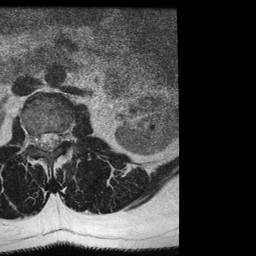CCS_normal: (45, 122, 53, 159)
LFS_normal: (62, 120, 70, 149)
LLS_normal: (53, 122, 62, 154)
RFS_normal: (28, 124, 36, 153)
RLS_normal: (36, 122, 45, 155)
